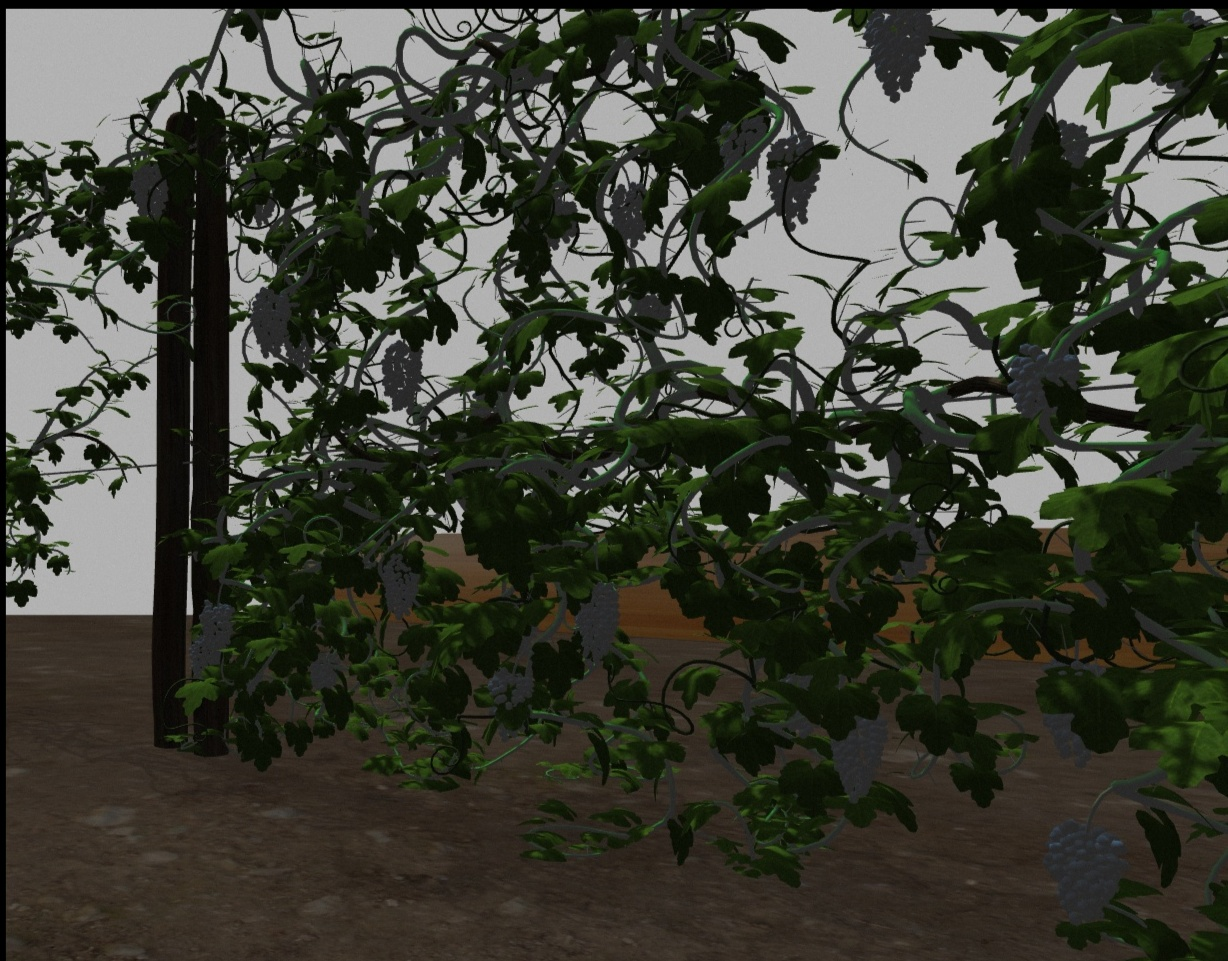grape: (1045, 819, 1130, 925), (1006, 340, 1083, 439), (864, 9, 931, 101), (827, 708, 889, 804), (765, 134, 820, 231), (574, 583, 621, 663), (379, 339, 424, 412), (715, 112, 764, 176), (608, 182, 653, 249), (249, 289, 291, 359), (378, 553, 421, 619), (131, 159, 170, 220), (488, 666, 536, 711), (198, 601, 234, 652), (188, 642, 221, 679), (307, 655, 343, 688)
